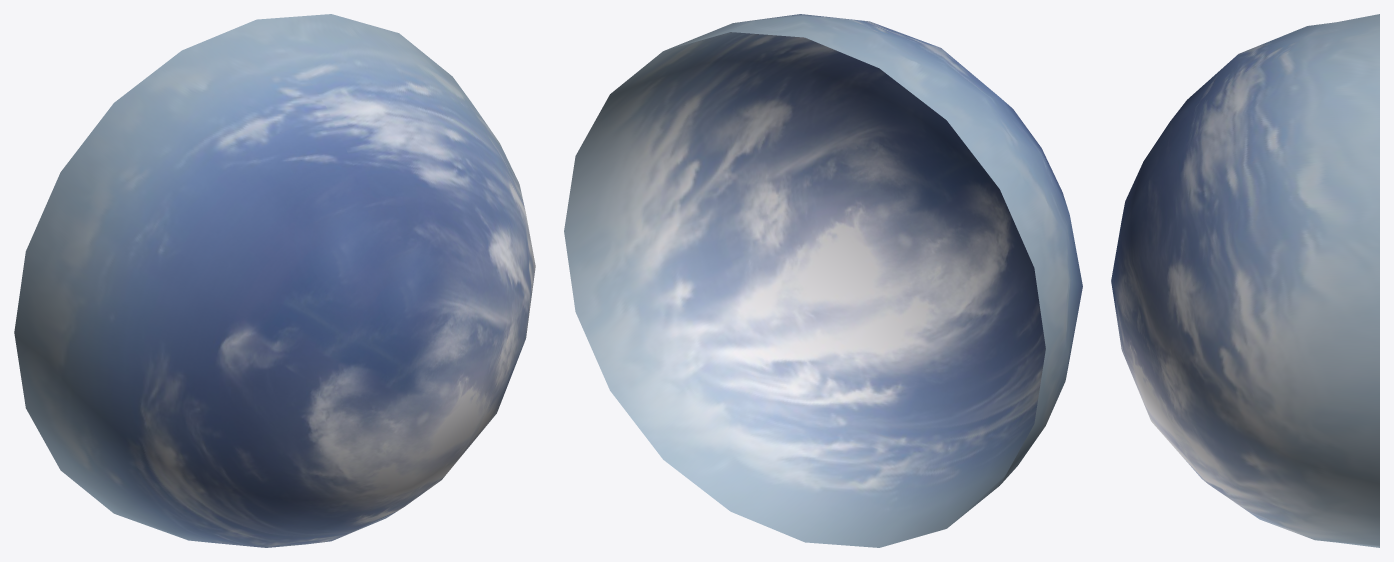
Rendered from skybox_beach_old.fbx.
3 renders of one model, left to right at view 1: azimuth 30°, elevation 25°; view 2: azimuth 150°, elevation 25°; view 3: azimuth 270°, elevation 25°, orthographic. The views are drawn at different scales.
Visible parts, largest first — view 1: Sphere_011; view 2: Sphere_011; view 3: Sphere_011.
Boxes of the visible parts, box(x1,y1,x2,y2) form: Sphere_011: box(14, 14, 535, 547); Sphere_011: box(564, 14, 1082, 547); Sphere_011: box(1111, 14, 1379, 547).
Bounding box in the file's own units: 951 × 952 × 475.
Materials: 1 (1 with a texture image).
